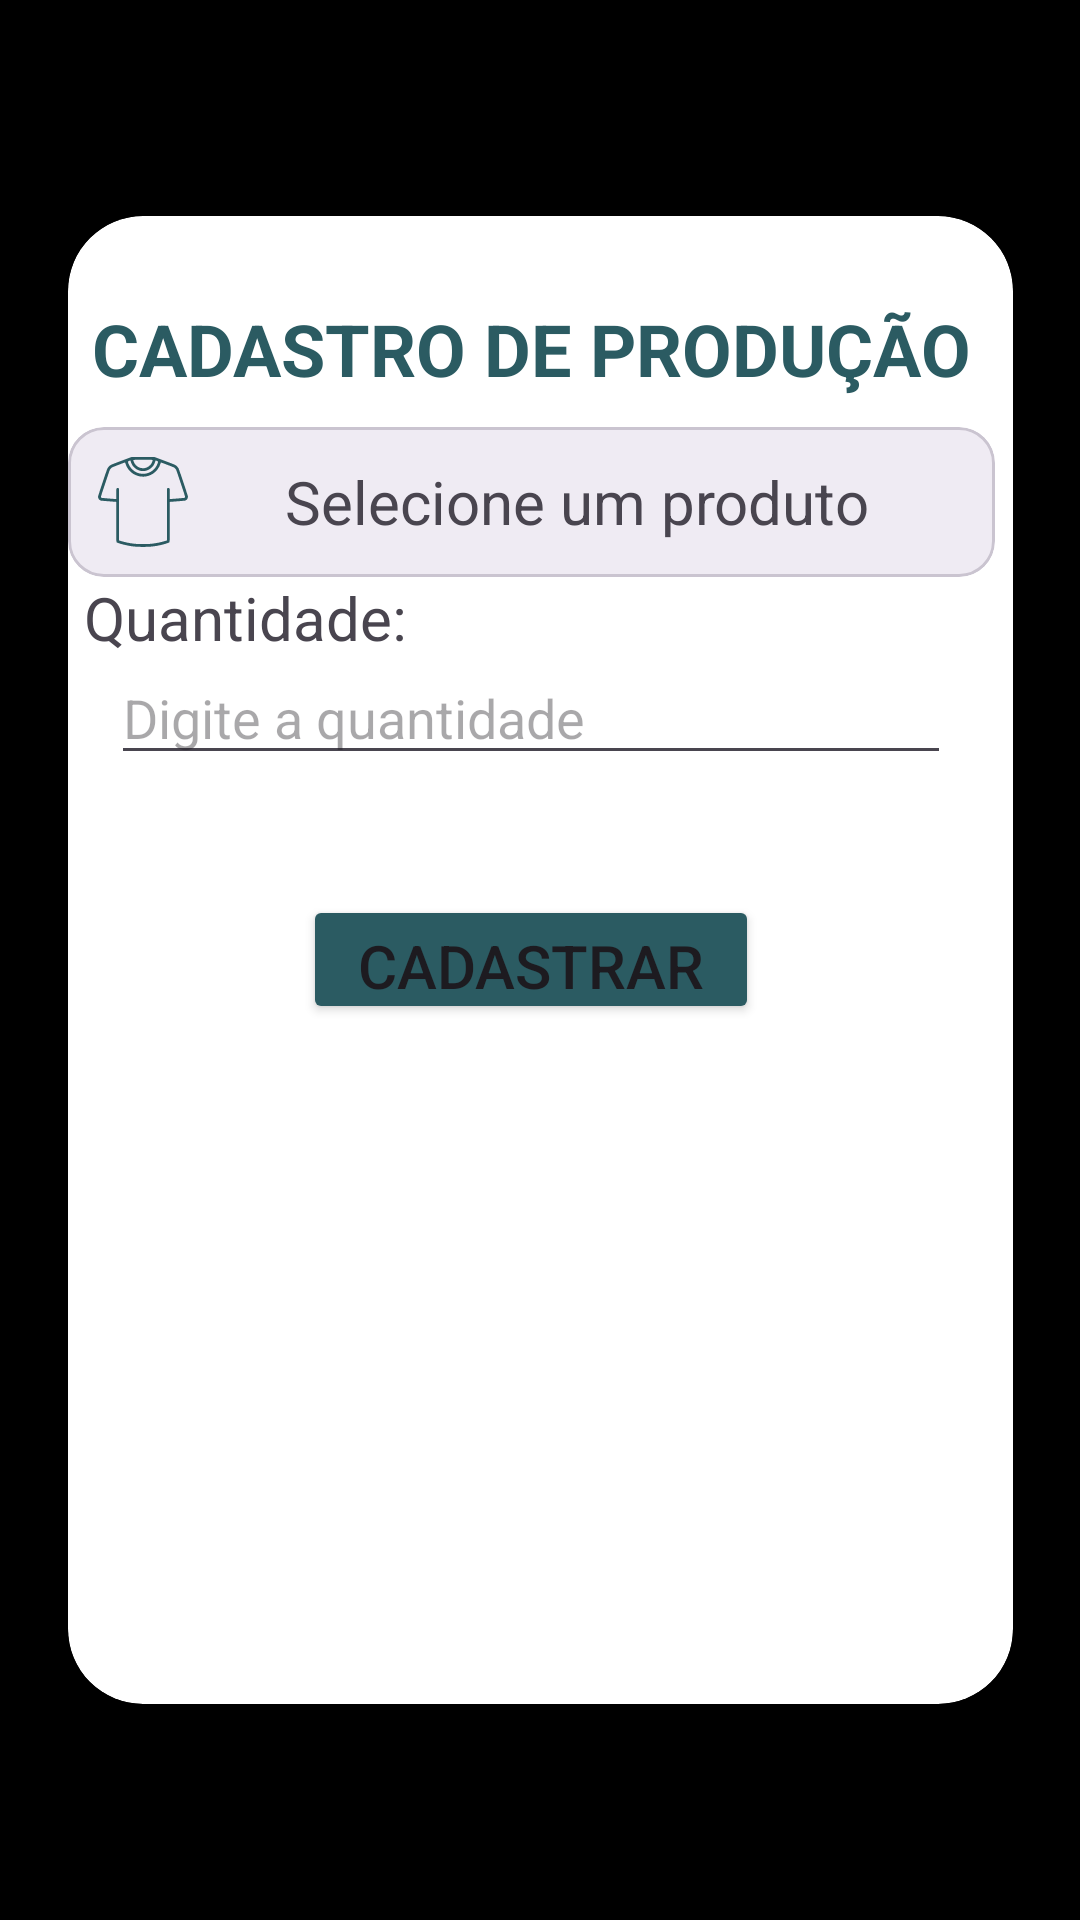

Icon bounding boxes for this 1080w x 1920h phone screenshot, format bbox=[x1, y1, x2, y2]:
camiseta: bbox=[98, 457, 188, 547]
